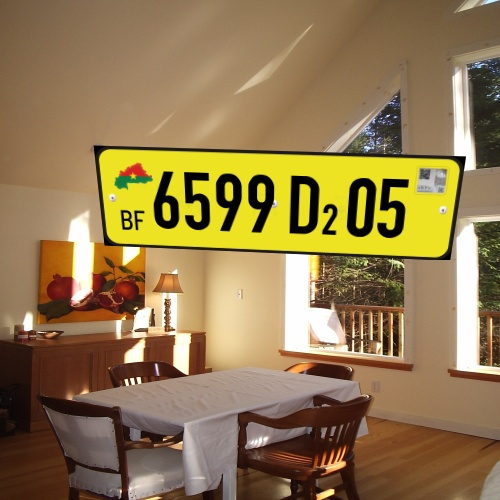plate: (89, 132, 466, 276)
